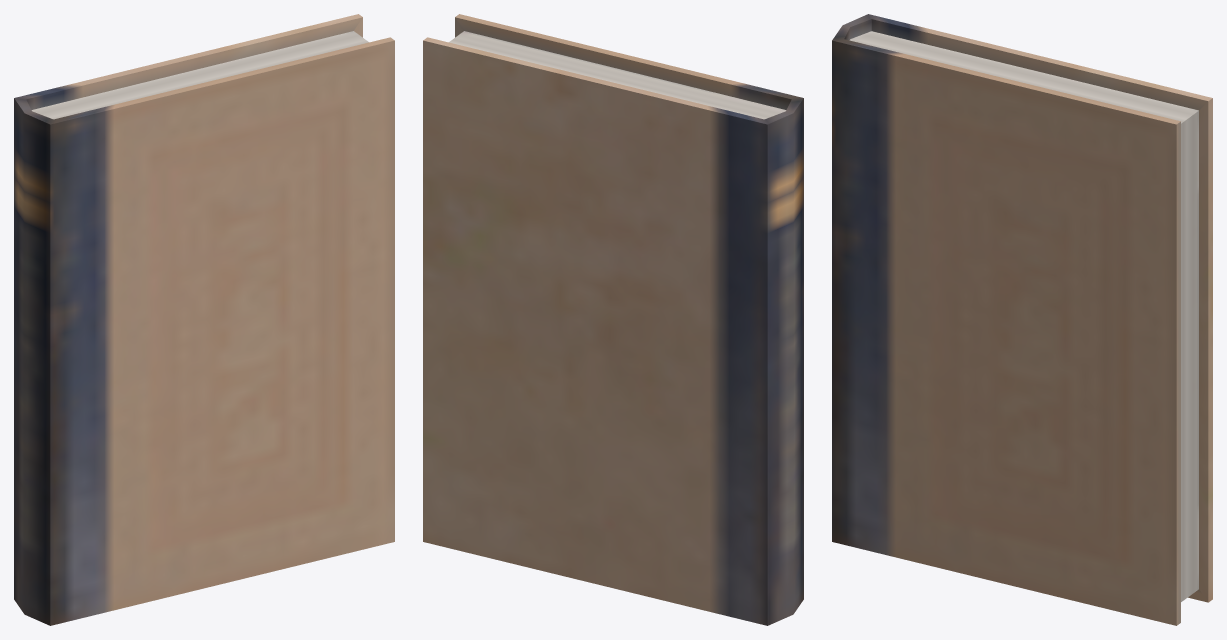
Rendered from Book_B.FBX.
The picture shows the model from 3 angles, left to right: view 1: azimuth 30°, elevation 25°; view 2: azimuth 150°, elevation 25°; view 3: azimuth 330°, elevation 25°; orthographic projection.
Parts seen in each view (by area): view 1: Book_B; view 2: Book_B; view 3: Book_B.
Boxes of the visible parts, left/top/right/bottom form: Book_B: left=14, top=14, right=394, bottom=625; Book_B: left=423, top=14, right=803, bottom=625; Book_B: left=832, top=14, right=1212, bottom=625.
Bounding box in the file's own units: 17.7 × 24.08 × 3.15.
